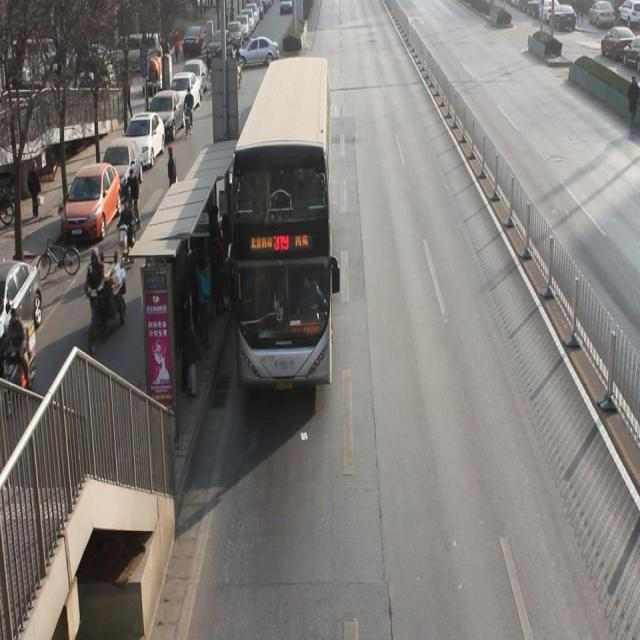van: (231, 55, 332, 384)
